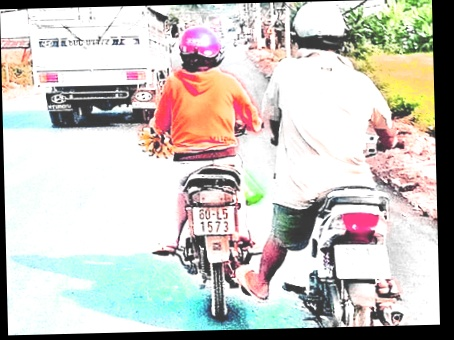Bien-so: (334, 269, 395, 309), (185, 218, 230, 248), (72, 63, 98, 79)
